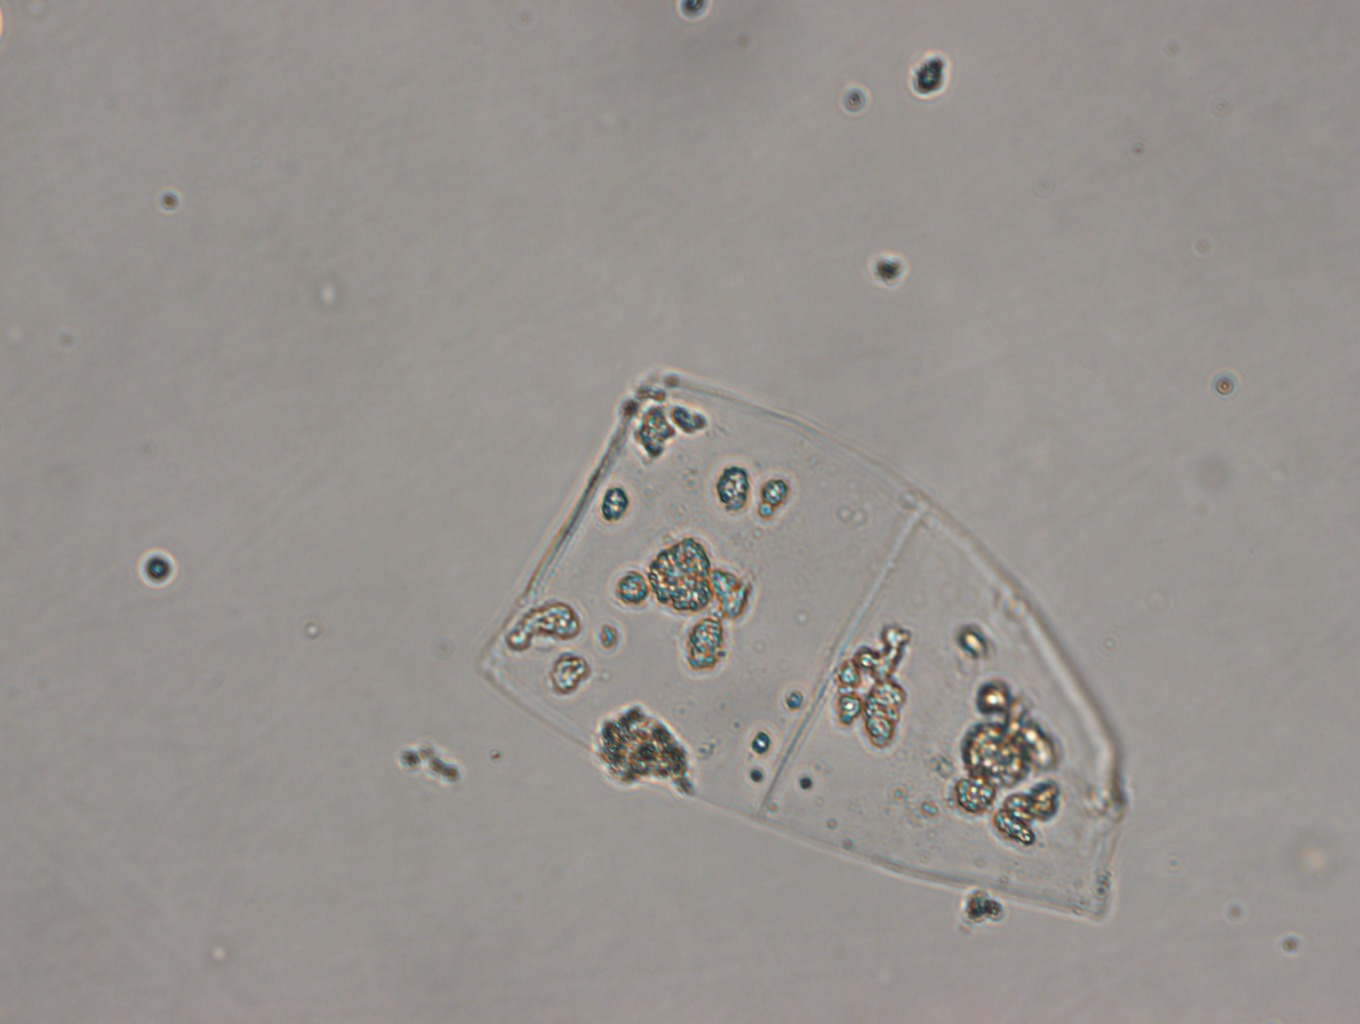helicotheca: (473, 367, 1126, 918)
